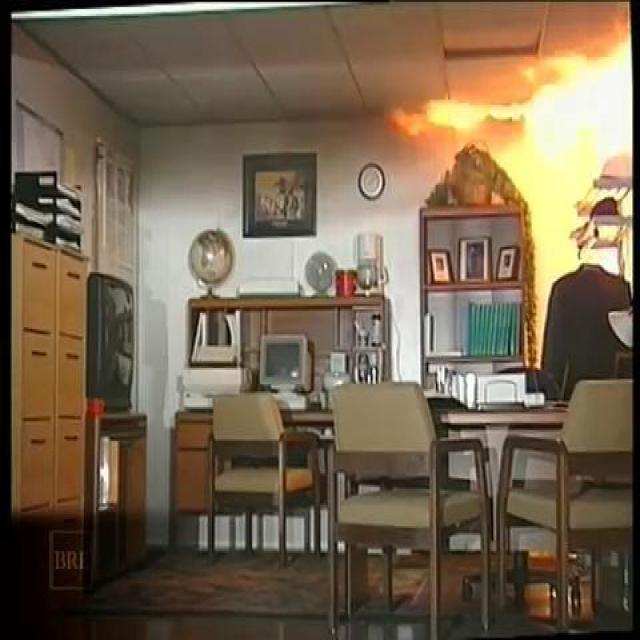smoke: (422, 48, 640, 166)
